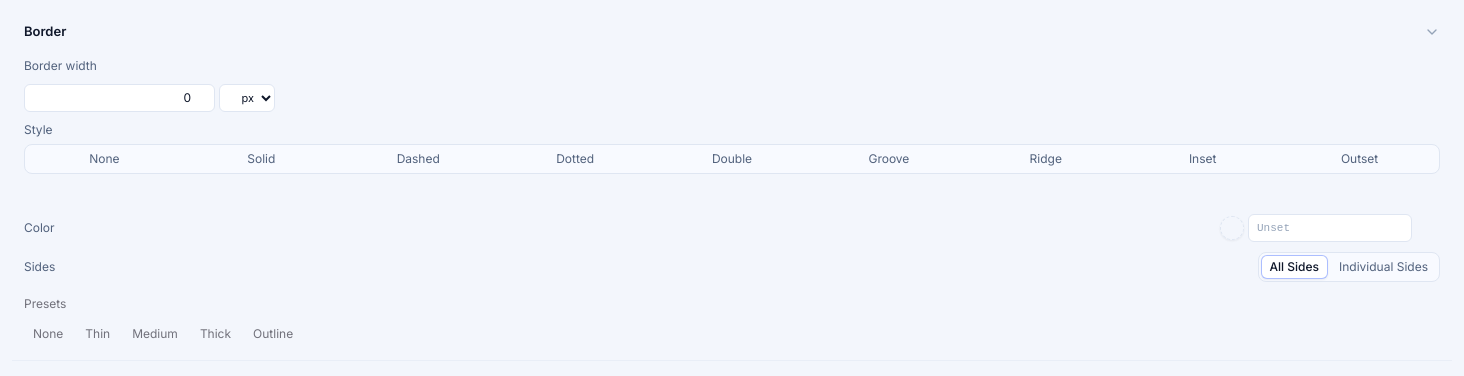
Test: InspectorBorderSection › rejects a malformed border color and does not commit
Type "not-a-color" into the field named "Border color" at (1330,228), box [1248,214,1412,242]
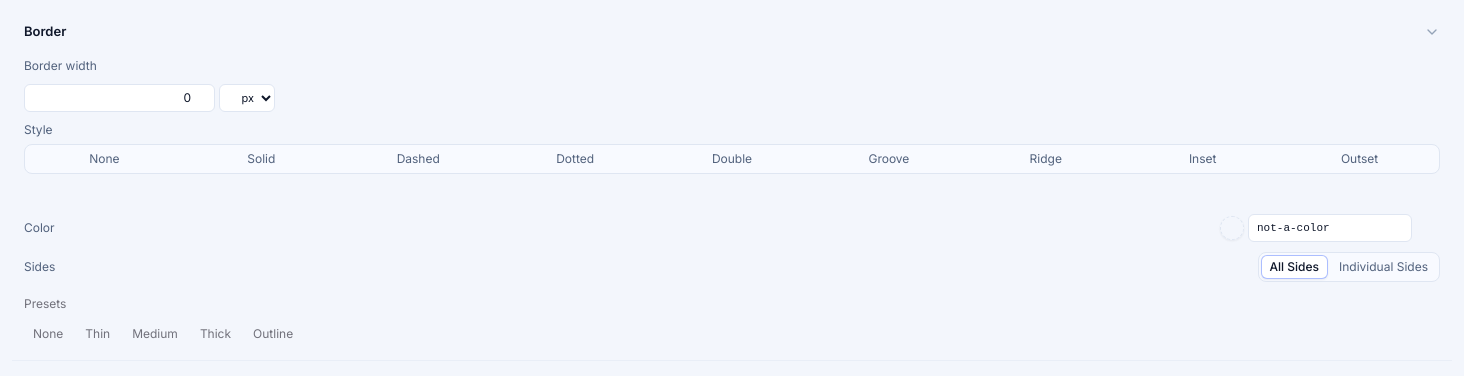
Leave the field named "Border color", box [1248,214,1412,242]
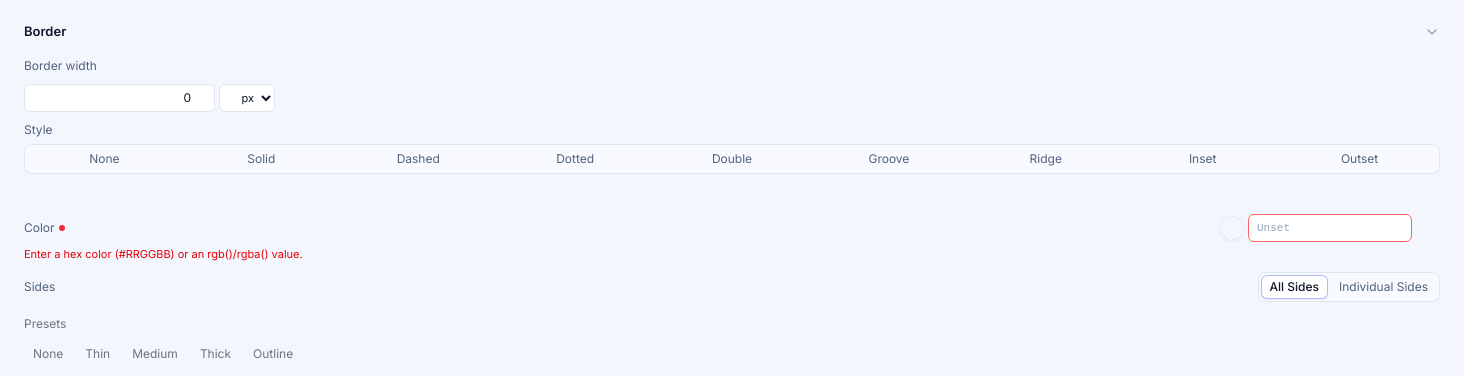
Result: the message reads "Enter a hex color (#RRGGBB) or an rgb()/rgba() value." at [24,246,303,260]
